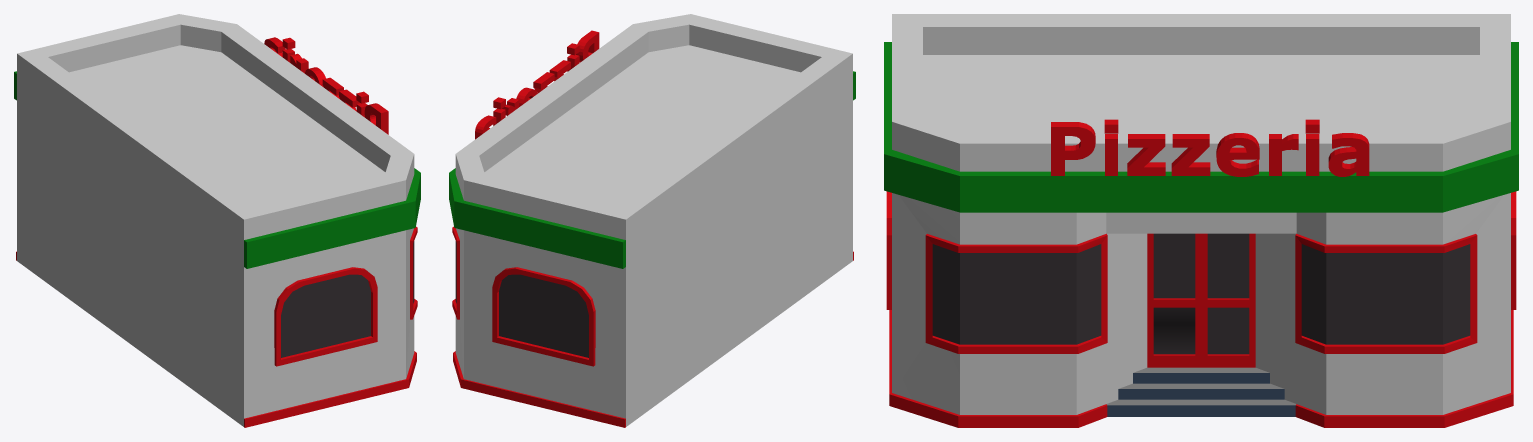
The model's file is shop_a_low.glb.
3 views of the same model, side by side, from view 1: azimuth 30°, elevation 25°; view 2: azimuth 150°, elevation 25°; view 3: azimuth 270°, elevation 25° (orthographic). The views are drawn at different scales.
Parts seen in each view (by area): view 1: shop_a_low; view 2: shop_a_low; view 3: shop_a_low.
Part boxes in pixels (box(x1,y1,x2,y2)): shop_a_low: box(14, 14, 420, 427); shop_a_low: box(449, 14, 855, 427); shop_a_low: box(884, 14, 1518, 427).
Bounding box in the file's own units: 4.58 × 4.86 × 9.1.
Materials: 1 (1 with a texture image).
